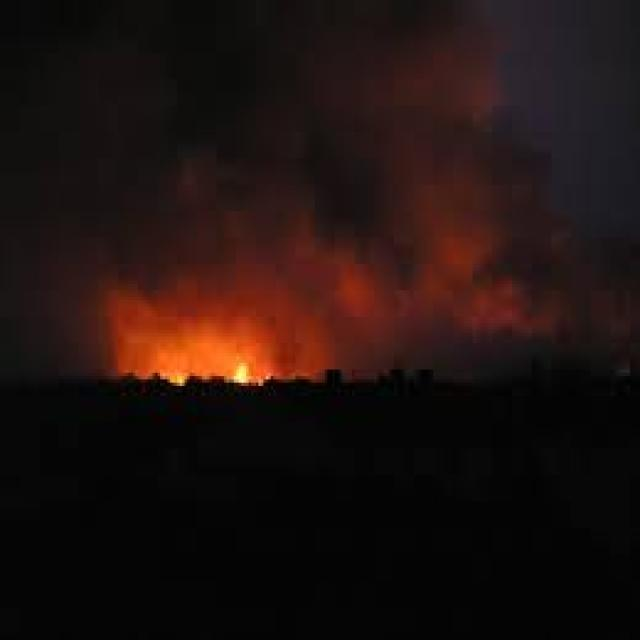Fire: (136, 305, 290, 388)
Smoke: (25, 12, 254, 198)
